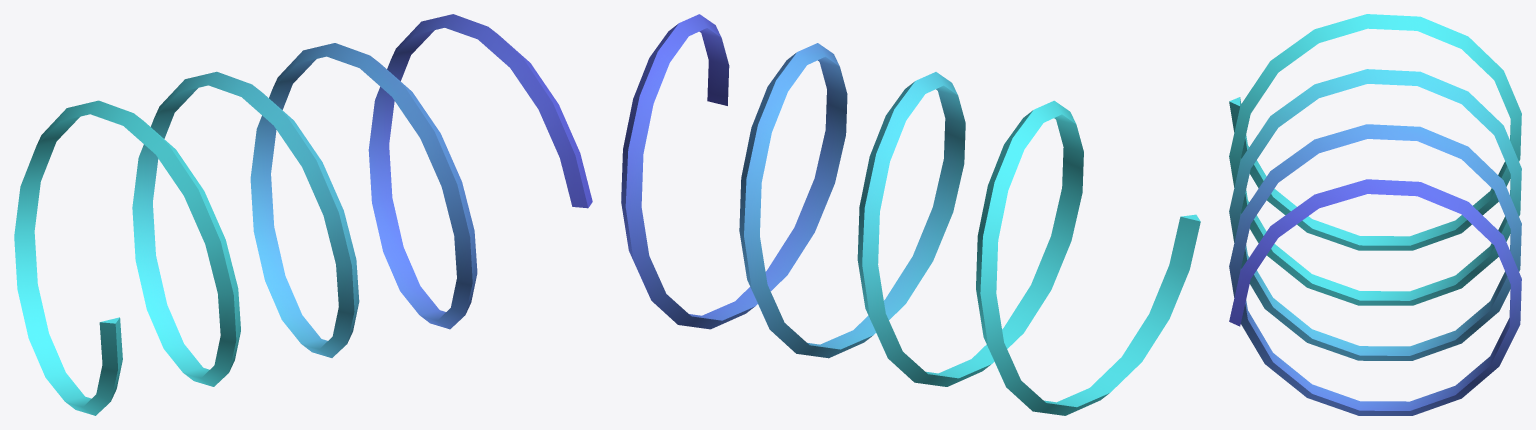
Rendered from mawari.fbx.
The picture shows the model from 3 angles, left to right: view 1: azimuth 30°, elevation 25°; view 2: azimuth 150°, elevation 25°; view 3: azimuth 270°, elevation 25°; orthographic projection. The views are drawn at different scales.
Visible parts, largest first — view 1: pHelix1; view 2: pHelix1; view 3: pHelix1.
Boxes of the visible parts, x1,y1,x2,y2 form: pHelix1: [14, 14, 592, 415]; pHelix1: [621, 14, 1200, 415]; pHelix1: [1229, 14, 1521, 415].
Size of the model in its own units: 261 by 141 by 140.
